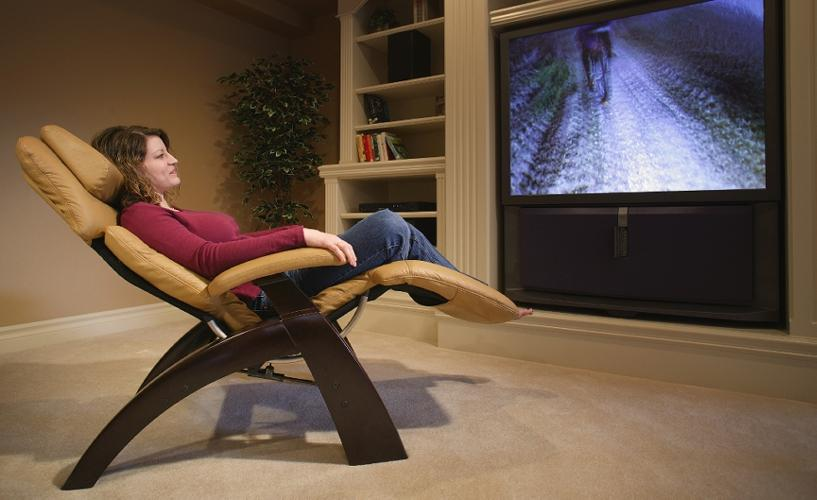person: (94, 127, 538, 326)
